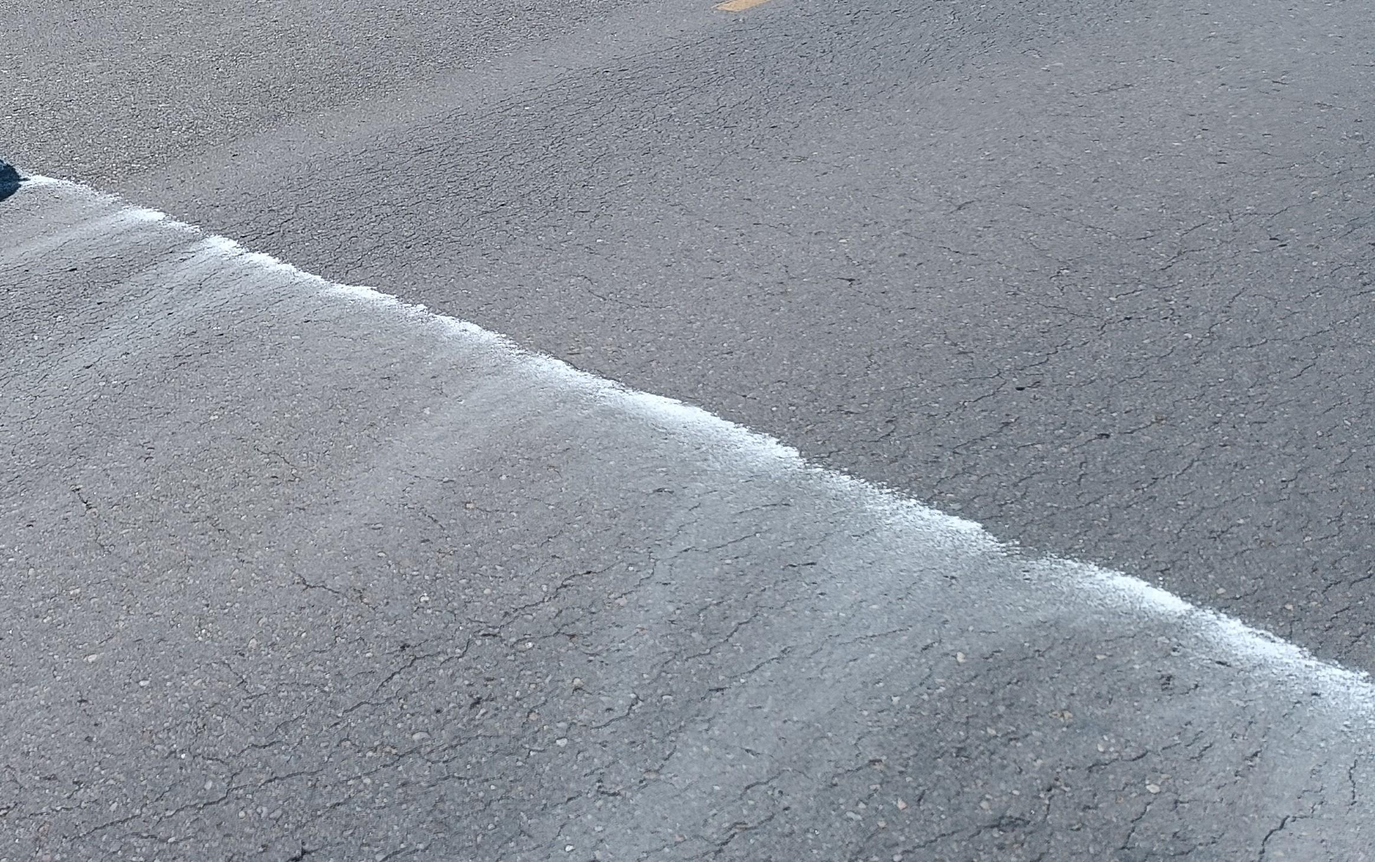PIEL DE COCODRILO: (0, 498, 1374, 861), (807, 135, 1374, 698), (233, 82, 676, 289)
